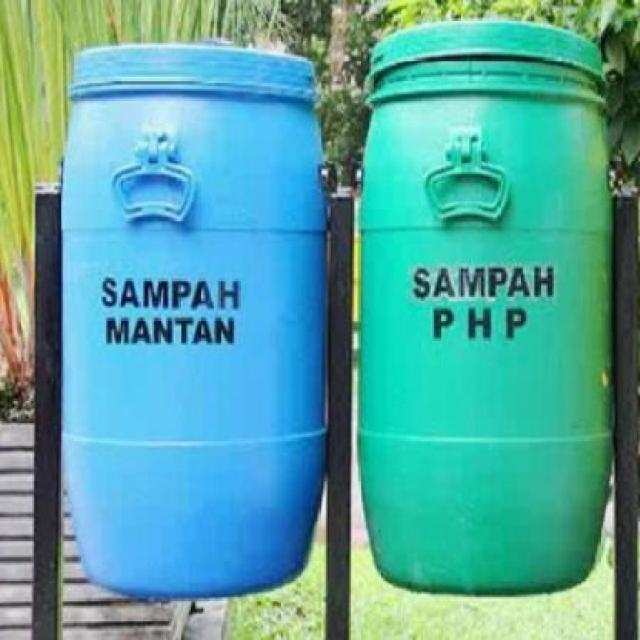garbage container: (56, 42, 335, 609), (355, 9, 617, 608)
